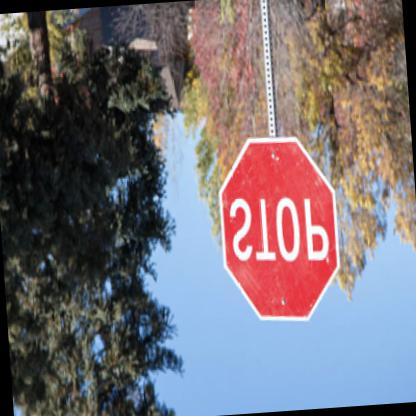stop: (212, 130, 346, 326)
